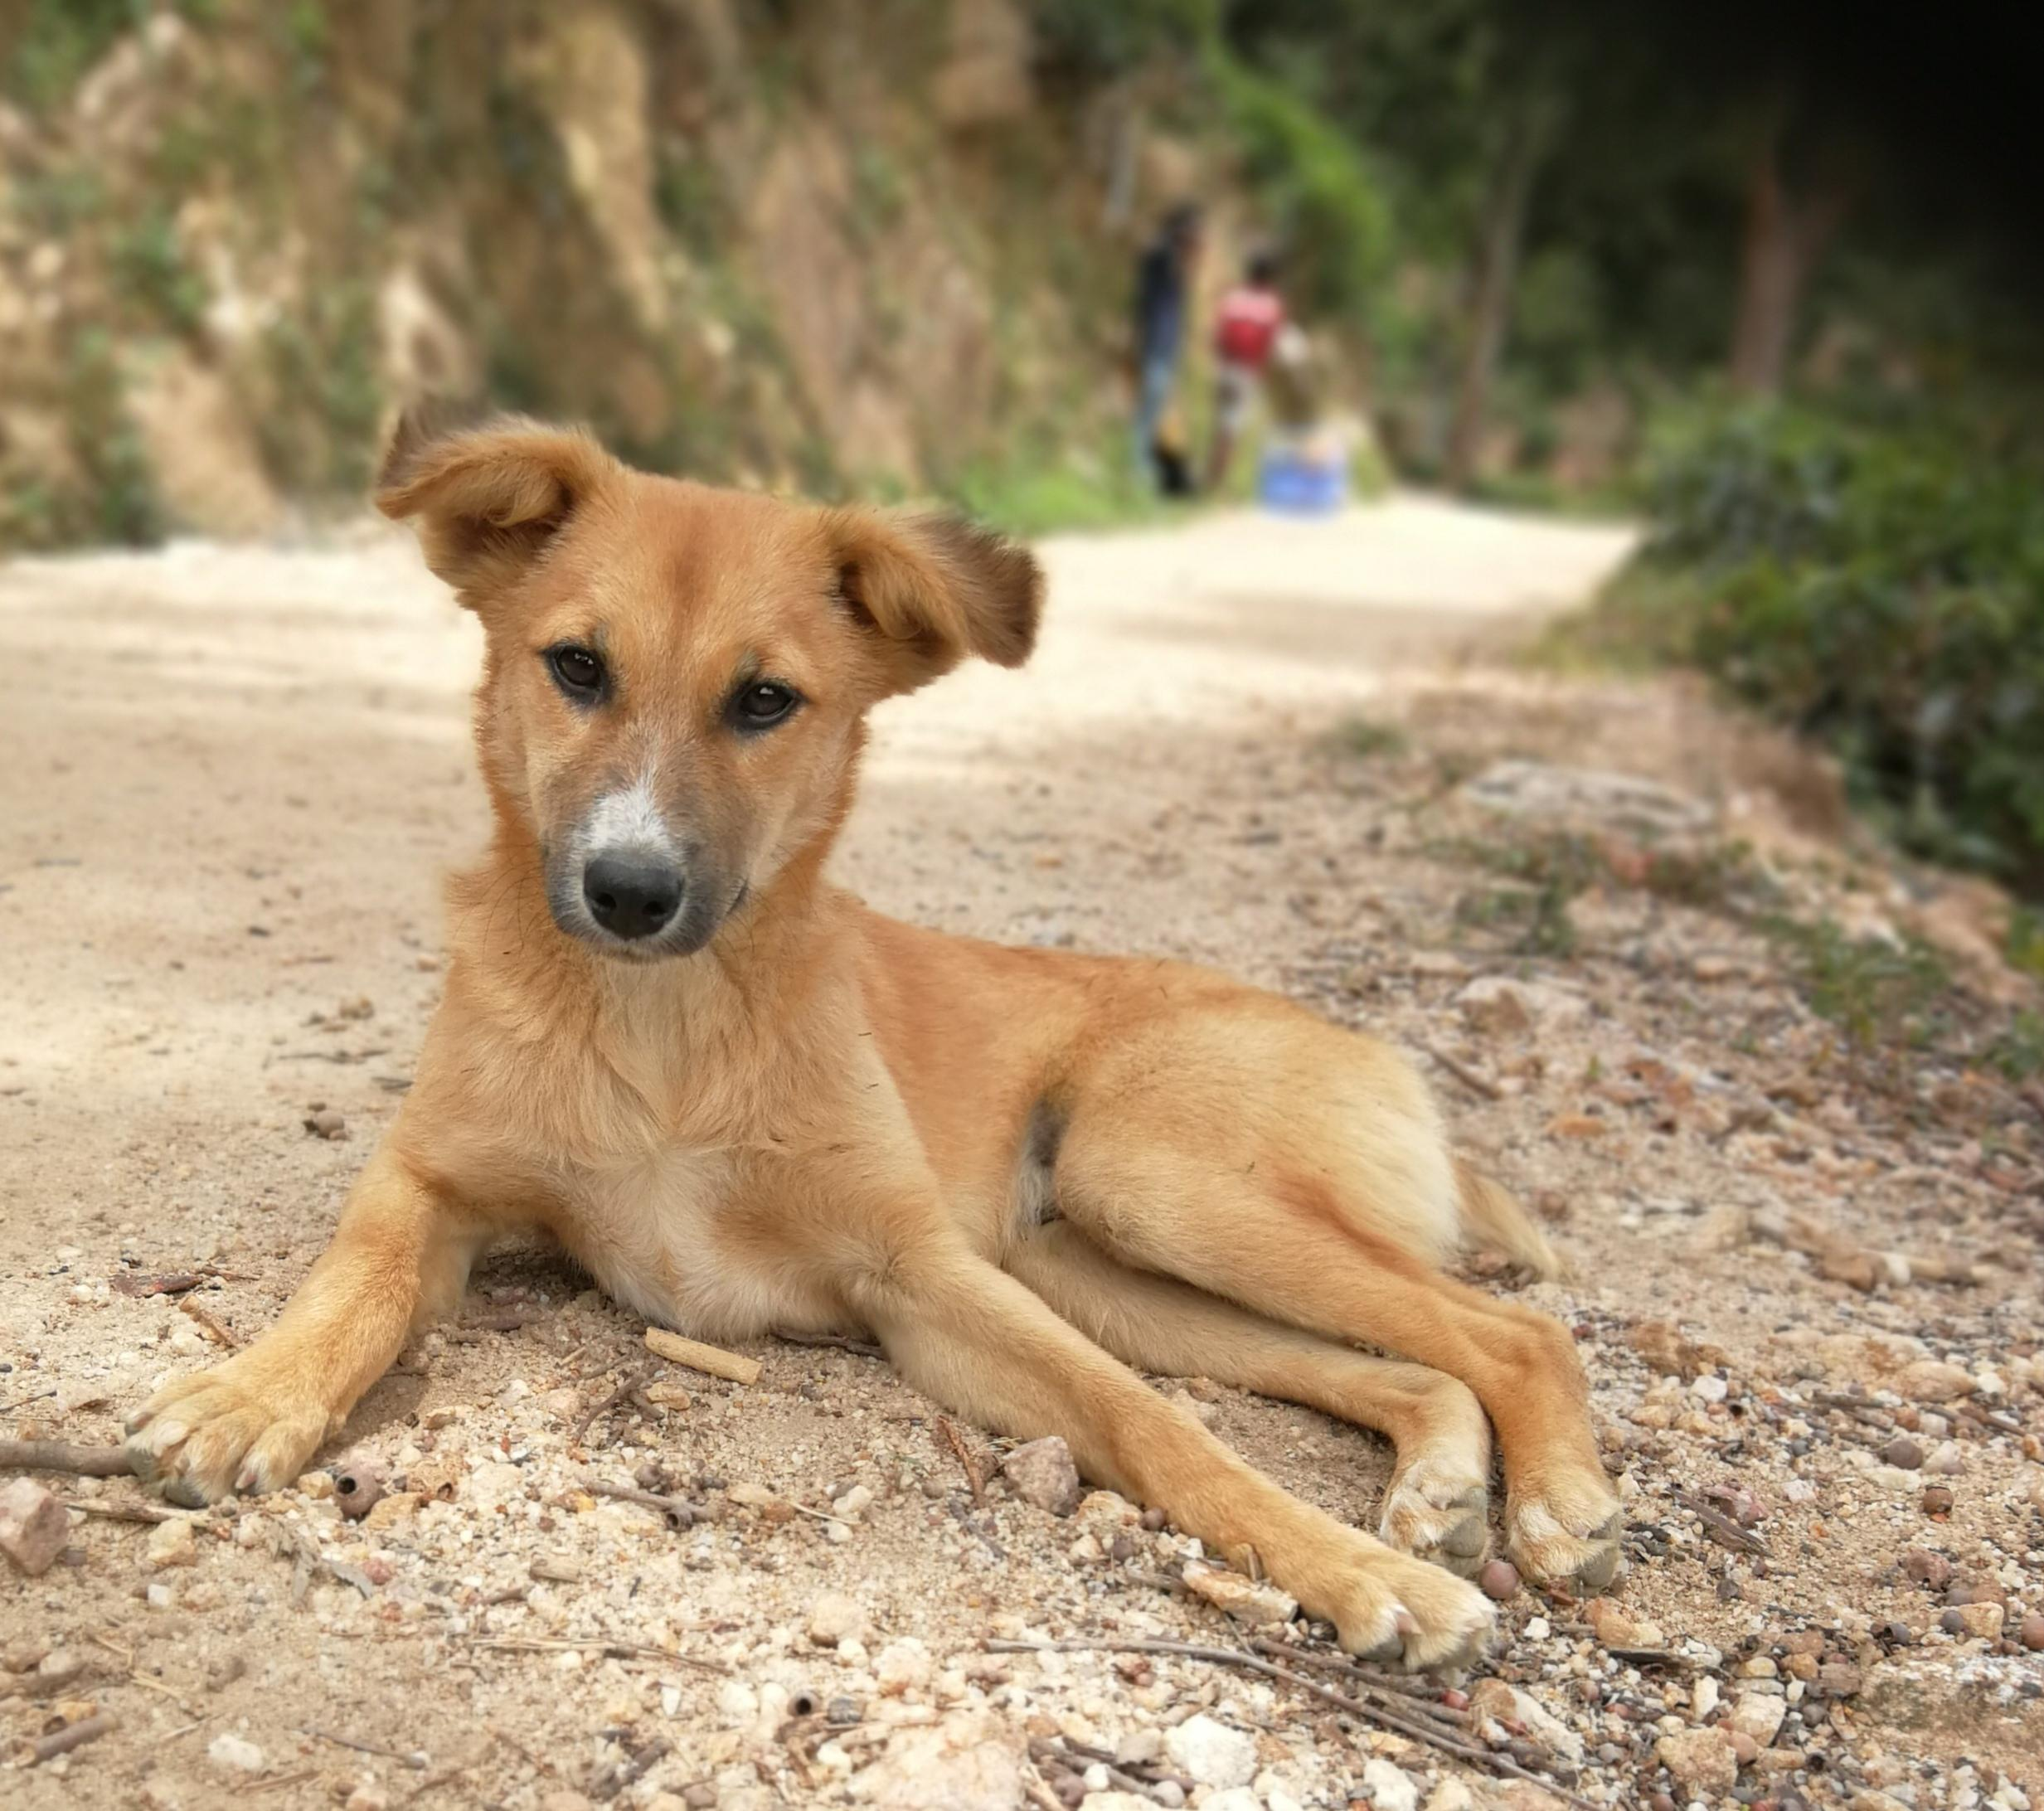Dog: (93, 332, 1682, 1729)
